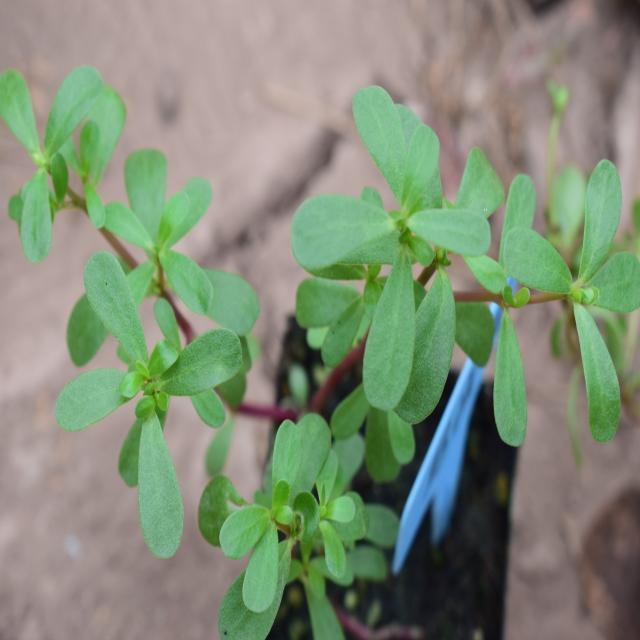purslane: (295, 80, 628, 458), (4, 69, 253, 548), (213, 384, 405, 610)
